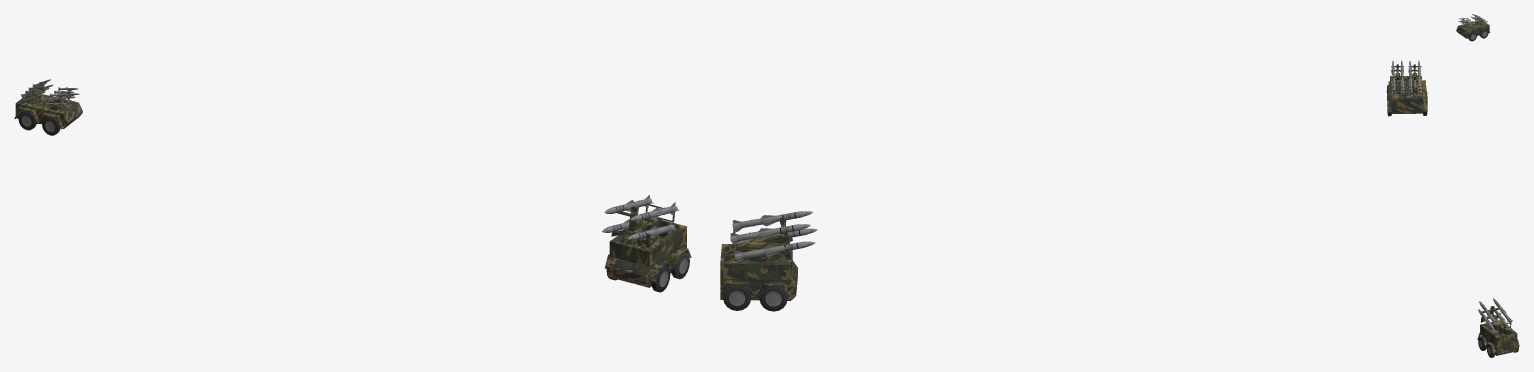
Rendered from PvoGrad.fbx.
3 views of the same model, side by side, from view 1: azimuth 30°, elevation 25°; view 2: azimuth 150°, elevation 25°; view 3: azimuth 270°, elevation 25° (orthographic). The views are drawn at different scales.
Visible parts, largest first — view 1: PVObig.006, PVOSmall.001, PVObig.007; view 2: PVObig.006, PVOSmall.001, PVObig.007, Raketa.011, Raketa.010, Raketa.009; view 3: PVObig.006, PVOSmall.001, PVObig.007, Raketa.011, Raketa.010, Raketa.008, Raketa.009.
Boxes of the visible parts, left/top/right/bottom form: PVObig.006: left=605, top=218, right=691, bottom=292; PVOSmall.001: left=14, top=82, right=82, bottom=135; PVObig.007: left=611, top=204, right=674, bottom=248; PVObig.006: left=720, top=244, right=798, bottom=311; PVOSmall.001: left=1386, top=64, right=1427, bottom=116; PVObig.007: left=732, top=217, right=792, bottom=261; Raketa.011: left=730, top=224, right=810, bottom=244; Raketa.010: left=732, top=211, right=812, bottom=232; Raketa.009: left=735, top=241, right=815, bottom=261; PVObig.006: left=1477, top=322, right=1519, bottom=357; PVOSmall.001: left=1456, top=15, right=1490, bottom=41; PVObig.007: left=1480, top=306, right=1511, bottom=336; Raketa.011: left=1493, top=298, right=1512, bottom=323; Raketa.010: left=1479, top=301, right=1498, bottom=326; Raketa.008: left=1478, top=309, right=1498, bottom=333; Raketa.009: left=1494, top=307, right=1511, bottom=331.
Bounding box in the file's own units: 16067 × 8095 × 2556.
5 materials, 3 textured.
